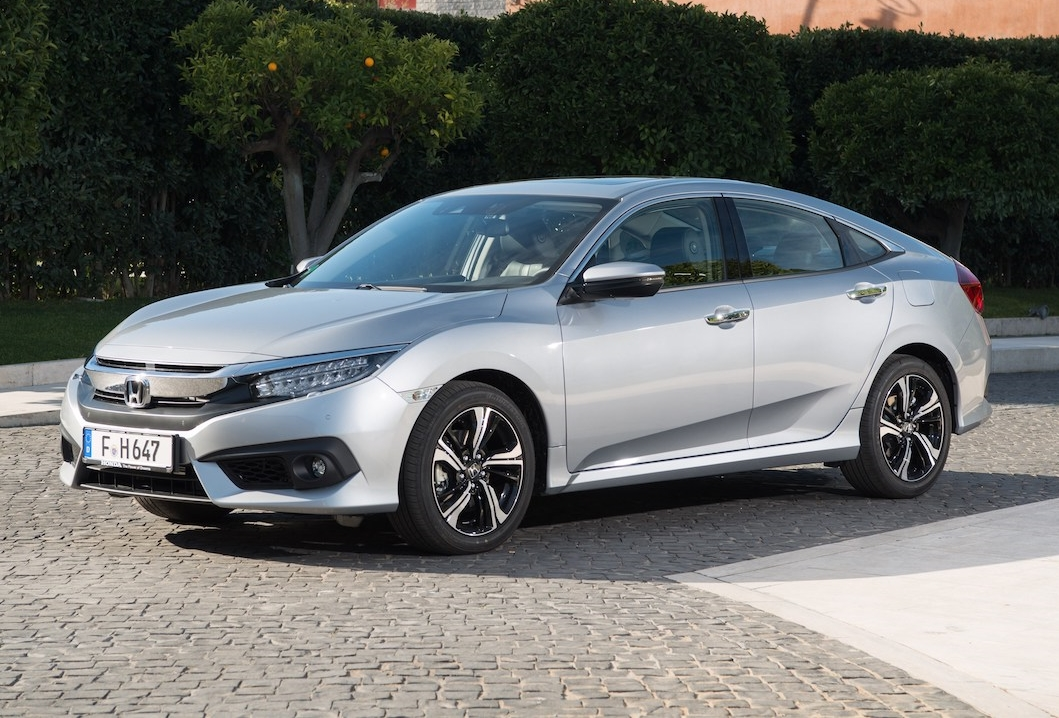sedan: (57, 165, 996, 558)
